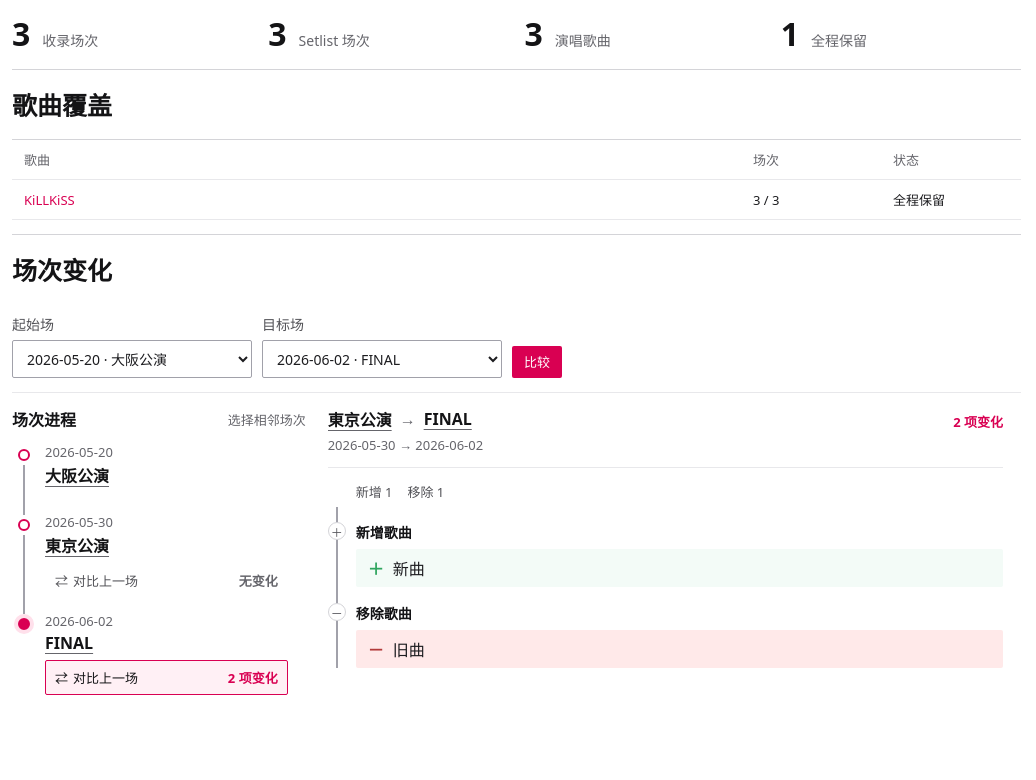
Test: TourStatisticsPanel › 按需加载任意两场的完整变化
The width and height of the screenshot is (1036, 780).
Click the button "比较": (537, 362) [512,346,562,378]
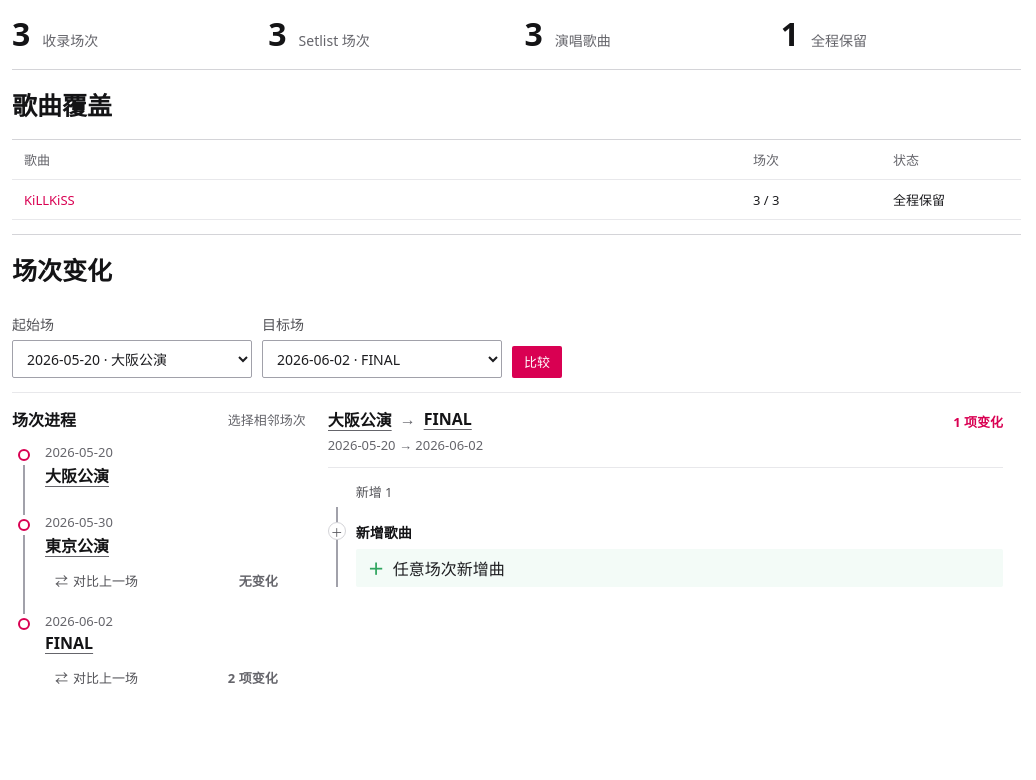
Expected: the number of elements named "歌单变化" is 1, [328,407,1021,595]
Result: the element named "新增 任意场次新增曲" is shown at [356,549,1003,587]
Click the button "⇄ 对比上一场 无变化": (166, 580) [45,563,288,598]
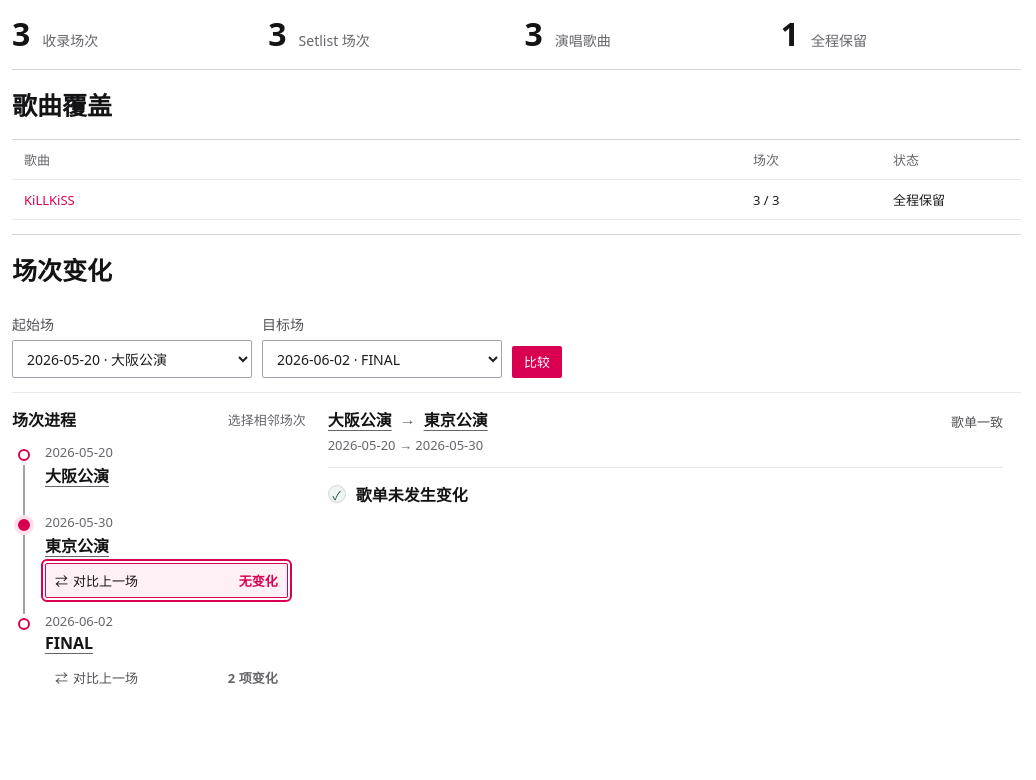
Result: the text "歌单未发生变化" is shown at [356,484,468,506]
